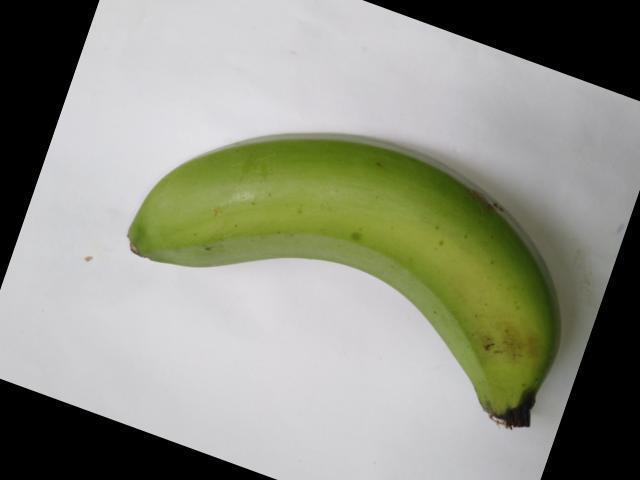freshunripe: (120, 113, 590, 454)
